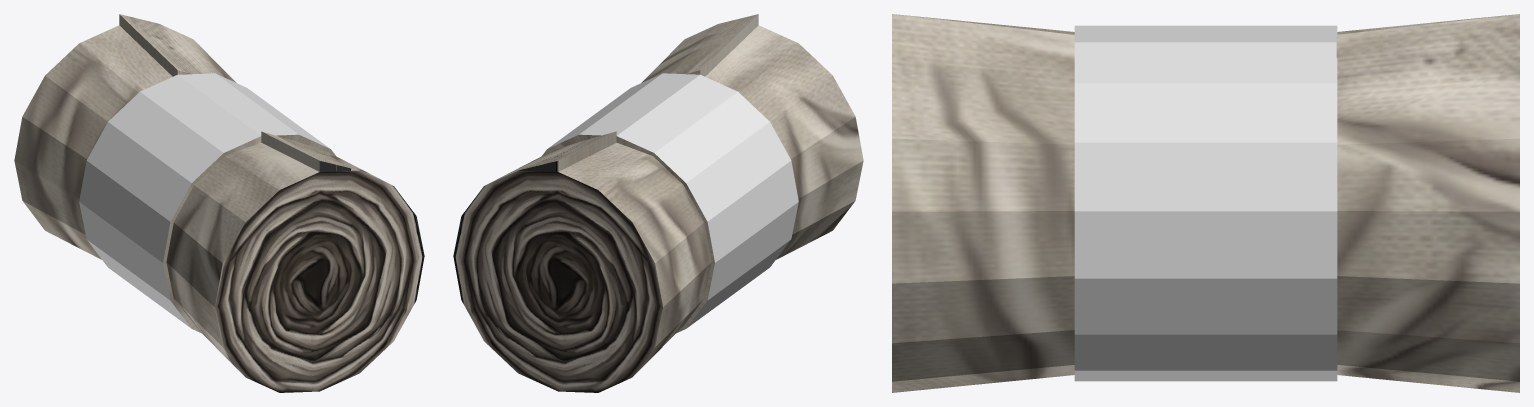
Rendered from bandaj.fbx.
3 renders of one model, left to right at view 1: azimuth 30°, elevation 25°; view 2: azimuth 150°, elevation 25°; view 3: azimuth 270°, elevation 25°, orthographic. The views are drawn at different scales.
Parts seen in each view (by area): view 1: Cylinder; view 2: Cylinder; view 3: Cylinder.
Part boxes in pixels (box(x1,y1,x2,y2)): Cylinder: box(14, 14, 424, 392); Cylinder: box(453, 14, 863, 392); Cylinder: box(892, 14, 1519, 392).
Bounding box in the file's own units: 200 × 210 × 331.
2 materials, 1 textured.
